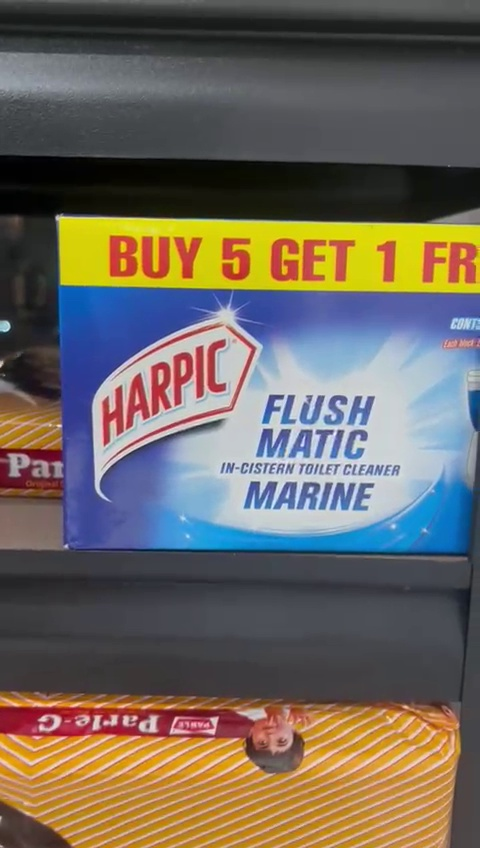Harpic: (50, 213, 480, 555)
